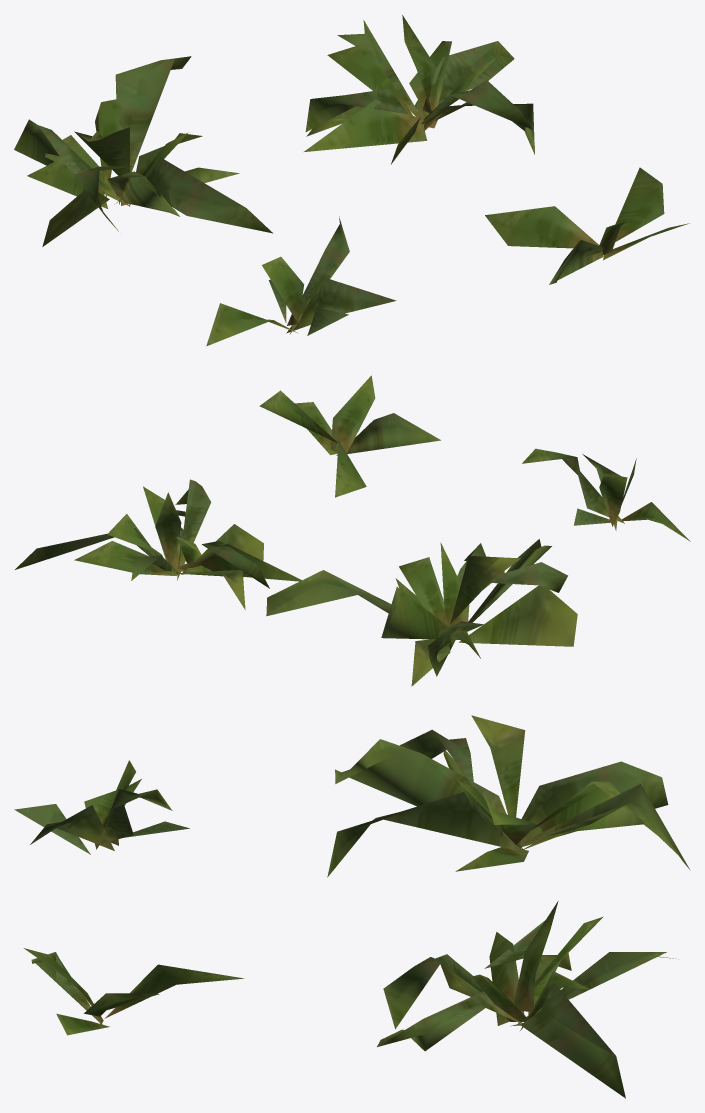
The model's file is fern.glb.
3 renders of one model, top to bottom at view 1: azimuth 30°, elevation 25°; view 2: azimuth 150°, elevation 25°; view 3: azimuth 270°, elevation 25°, orthographic. The views are drawn at different scales.
Visible parts, largest first — view 1: fern_02_b, fern_02_c, fern_02_a, fern_02_d; view 2: fern_02_b, fern_02_c, fern_02_d, fern_02_a; view 3: fern_02_b, fern_02_c, fern_02_a, fern_02_d.
Part boxes in pixels (bbox=[...]): fern_02_b: bbox=[14, 56, 273, 246]; fern_02_c: bbox=[304, 15, 534, 164]; fern_02_a: bbox=[206, 216, 396, 346]; fern_02_d: bbox=[485, 167, 689, 284]; fern_02_b: bbox=[266, 539, 577, 686]; fern_02_c: bbox=[15, 479, 301, 609]; fern_02_d: bbox=[259, 375, 440, 497]; fern_02_a: bbox=[522, 448, 690, 541]; fern_02_b: bbox=[327, 715, 690, 877]; fern_02_c: bbox=[377, 901, 676, 1098]; fern_02_a: bbox=[14, 760, 189, 854]; fern_02_d: bbox=[23, 948, 244, 1035].
Bounding box in the file's own units: 1.78 × 0.335 × 1.62.
Materials: 1 (1 with a texture image).
